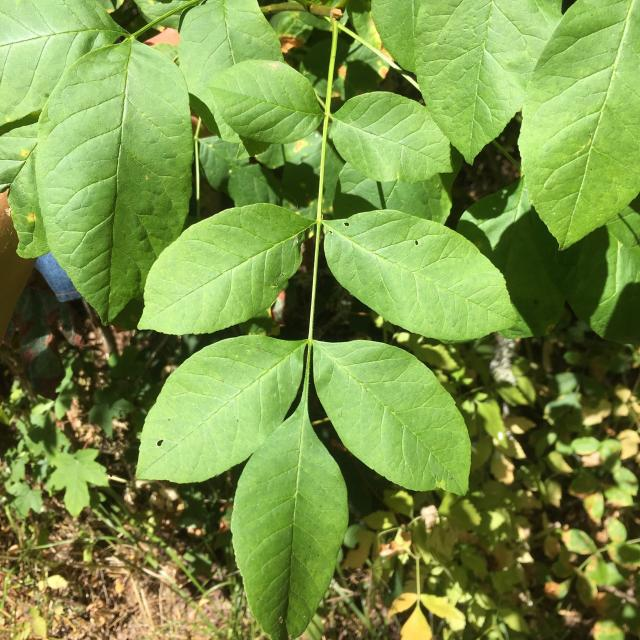Fraxinus latifolia: (3, 10, 526, 640)
